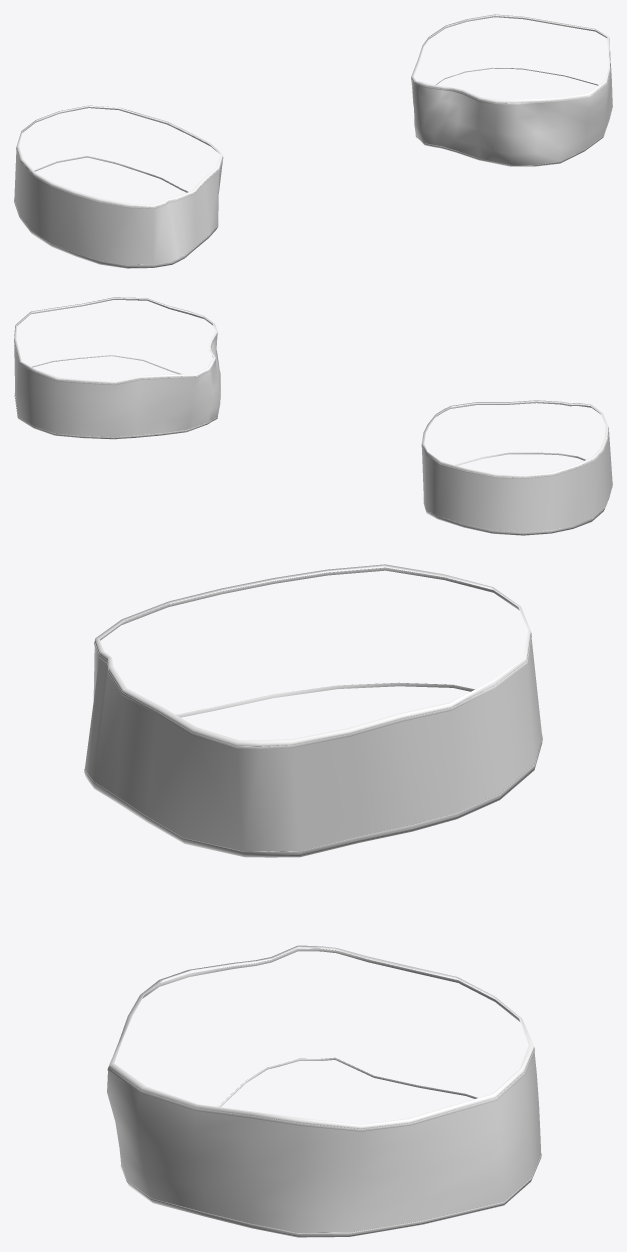
File: Pants_Flic_UNDER_KNEE.glb
3 views of the same model, one above another, from view 1: azimuth 30°, elevation 25°; view 2: azimuth 150°, elevation 25°; view 3: azimuth 270°, elevation 25° (orthographic). The views are drawn at different scales.
Visible parts, largest first — view 1: Pants_Flip.001, Pants_Flip1.001; view 2: Pants_Flip.001, Pants_Flip1.001; view 3: Pants_Flip.001, Pants_Flip1.001.
Boxes of the visible parts, x1,y1,x2,y2 form: Pants_Flip.001: (14, 14, 612, 268); Pants_Flip1.001: (14, 15, 612, 266); Pants_Flip.001: (14, 297, 612, 535); Pants_Flip1.001: (14, 298, 612, 533); Pants_Flip.001: (84, 564, 542, 1237); Pants_Flip1.001: (84, 567, 542, 1235).
Bounding box in the file's own units: 0.8147 × 0.1035 × 0.2834.
2 materials, 2 textured.
